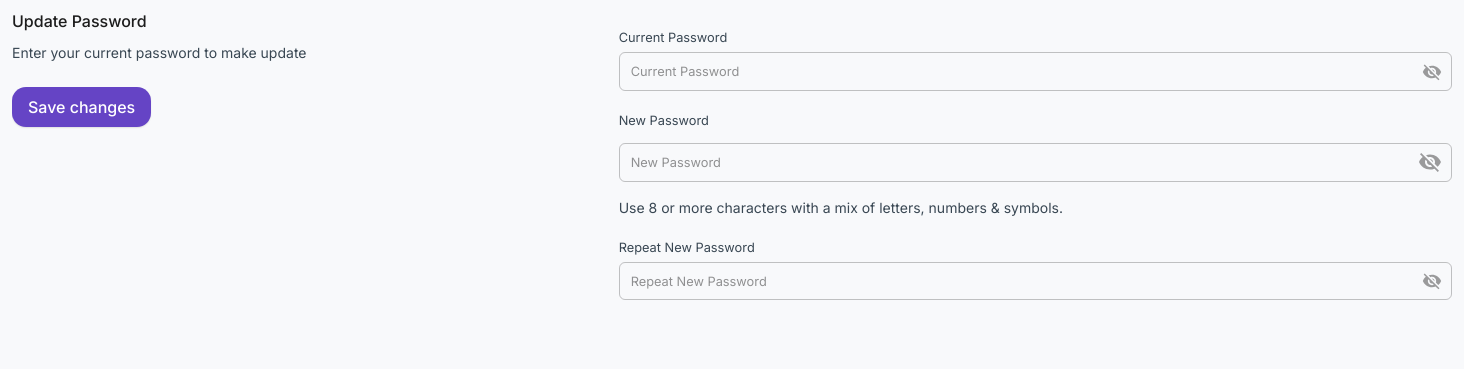
Test: SetNewPassword Component › should show error when API fails
In the password field with placeholder "Current Password": (1012, 72) [619,52,1406,91], type "Password@1234"
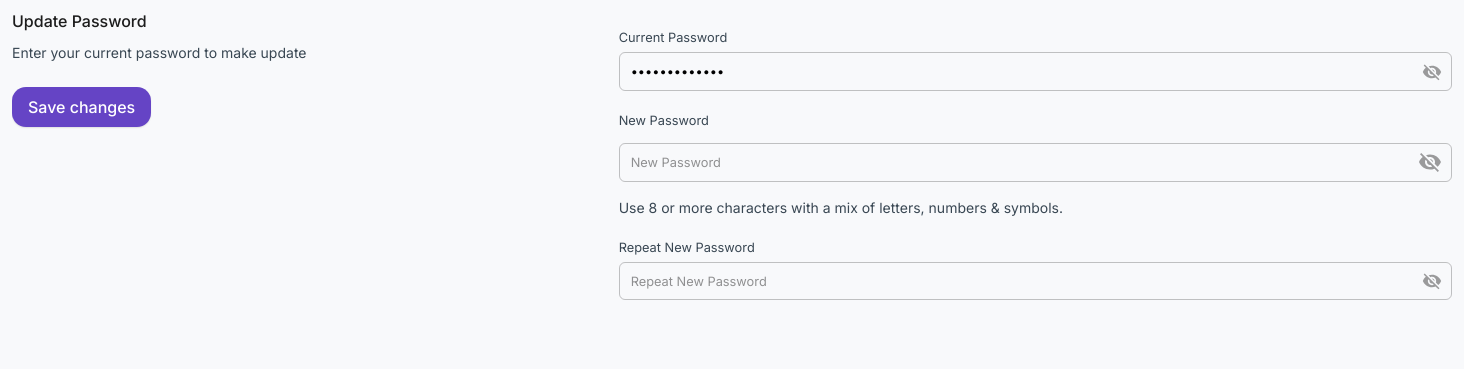
In the password field with placeholder "New Password": (1010, 162) [619,143,1402,182], type "Password@155"
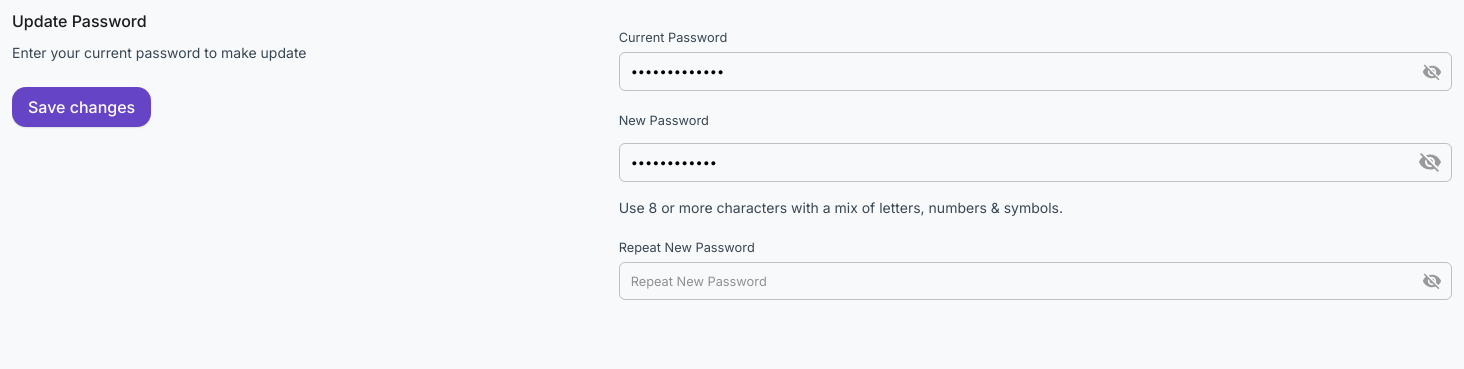
In the password field with placeholder "Repeat New Password": (1012, 281) [619,262,1406,300], type "Password@155"
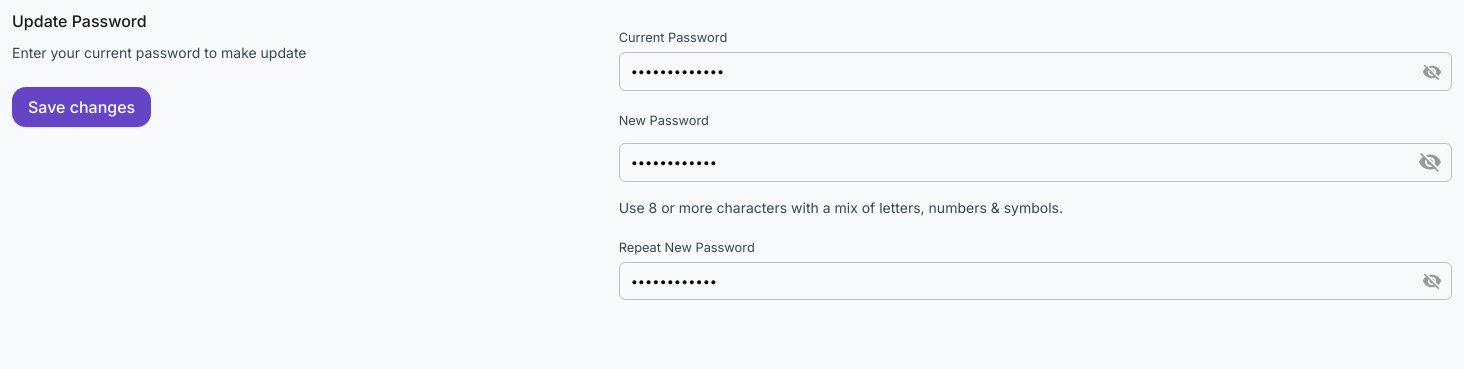
Click the button "Save changes": (82, 107) [12,87,151,127]
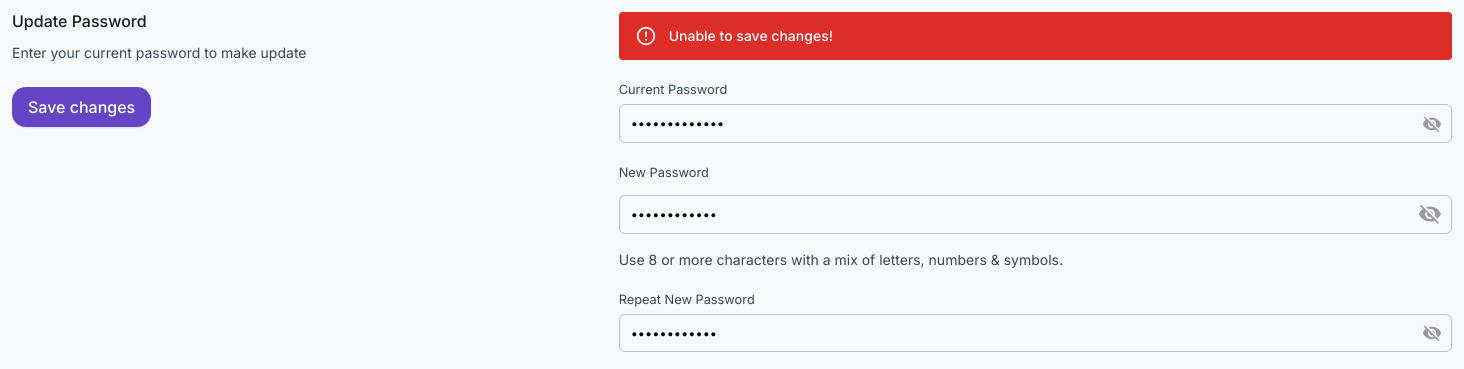
Expected: the text "Unable to save changes!" is shown, [669,27,833,44]
